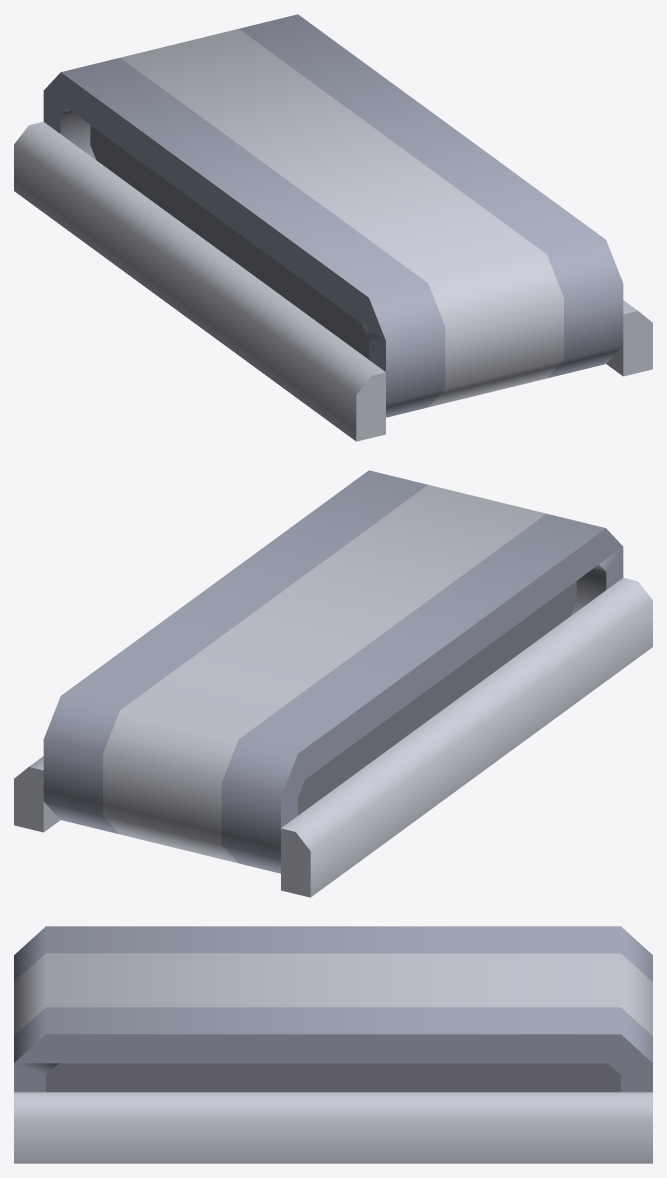
Rendered from conveyor-long-stripe-sides.fbx.
3 renders of one model, top to bottom at view 1: azimuth 30°, elevation 25°; view 2: azimuth 150°, elevation 25°; view 3: azimuth 270°, elevation 25°, orthographic. The views are drawn at different scales.
Visible parts, largest first — view 1: Group.017, Group.016; view 2: Group.017, Group.016; view 3: Group.017, Group.016.
Part boxes in pixels (<box>): Group.017: <box>43,14,623,417</box>; Group.016: <box>14,122,652,441</box>; Group.017: <box>43,470,623,873</box>; Group.016: <box>14,578,652,897</box>; Group.017: <box>14,926,652,1092</box>; Group.016: <box>14,1092,652,1163</box>.
Bounding box in the file's own units: 100 × 40 × 200.
